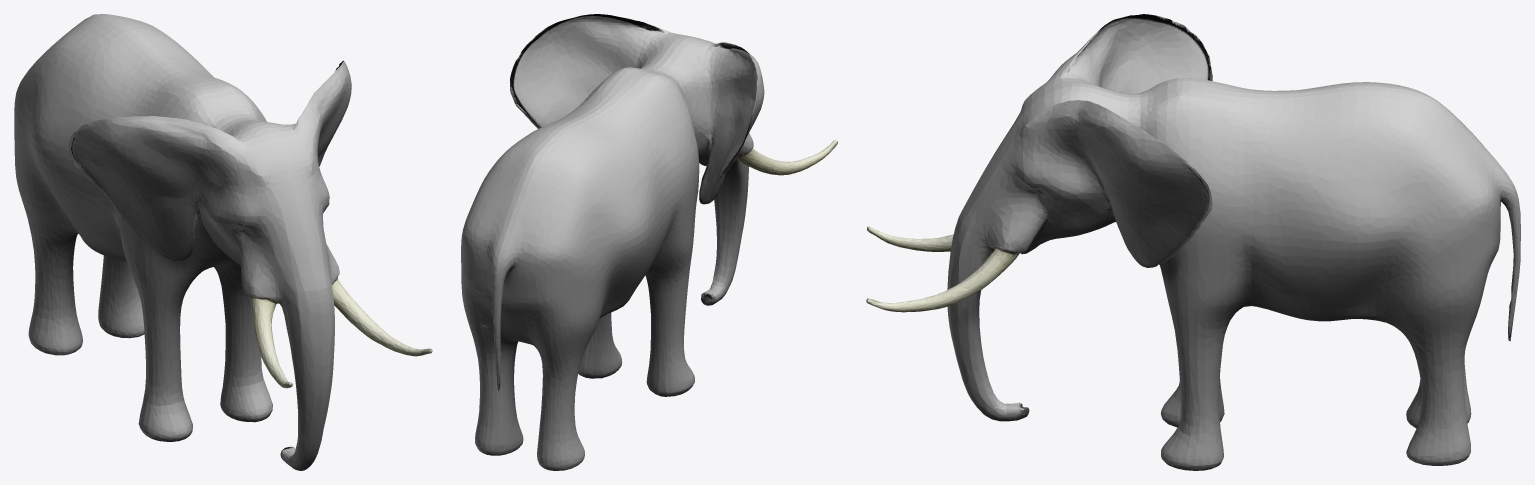
The picture shows the model from 3 angles, left to right: view 1: azimuth 30°, elevation 25°; view 2: azimuth 150°, elevation 25°; view 3: azimuth 270°, elevation 25°; orthographic projection. The views are drawn at different scales.
Visible parts, largest first — view 1: world; view 2: world; view 3: world.
Part boxes in pixels (<box>): world: <box>14,14,432,470</box>; world: <box>461,14,837,470</box>; world: <box>866,14,1520,470</box>.
Size of the model in its own units: 0.4872 by 0.631 by 0.9934.
Materials: 1 (1 with a texture image).
